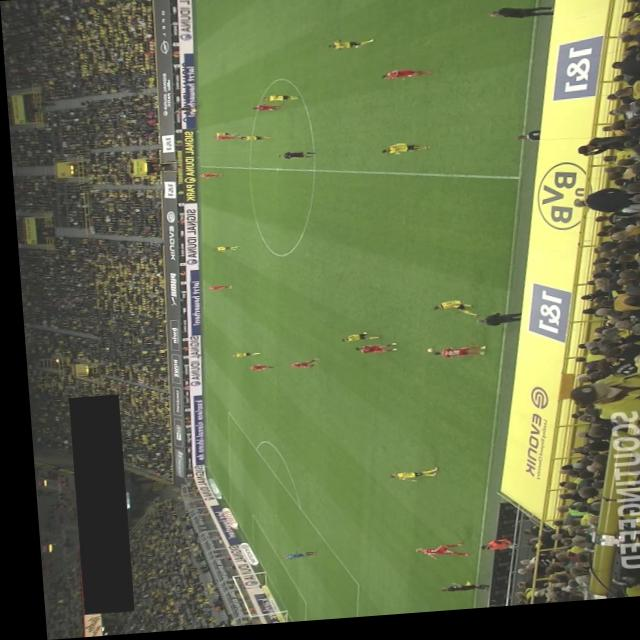goalkeeper: (272, 553, 308, 563)
player: (405, 547, 461, 566), (427, 304, 473, 326), (427, 350, 482, 365), (377, 146, 428, 161), (379, 73, 433, 86), (382, 473, 431, 487), (326, 42, 374, 56), (348, 347, 393, 359), (335, 336, 376, 346), (282, 361, 315, 372), (260, 97, 299, 106), (250, 106, 283, 115), (237, 137, 269, 145), (225, 353, 256, 361), (208, 247, 234, 255), (241, 367, 270, 374), (211, 137, 237, 144), (203, 286, 228, 293), (196, 174, 220, 181), (210, 133, 236, 139)
referee: (430, 587, 478, 600), (275, 153, 313, 164), (175, 107, 199, 116)
